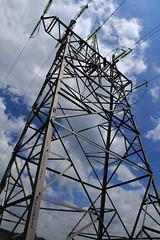power_tower: (0, 12, 160, 240)
